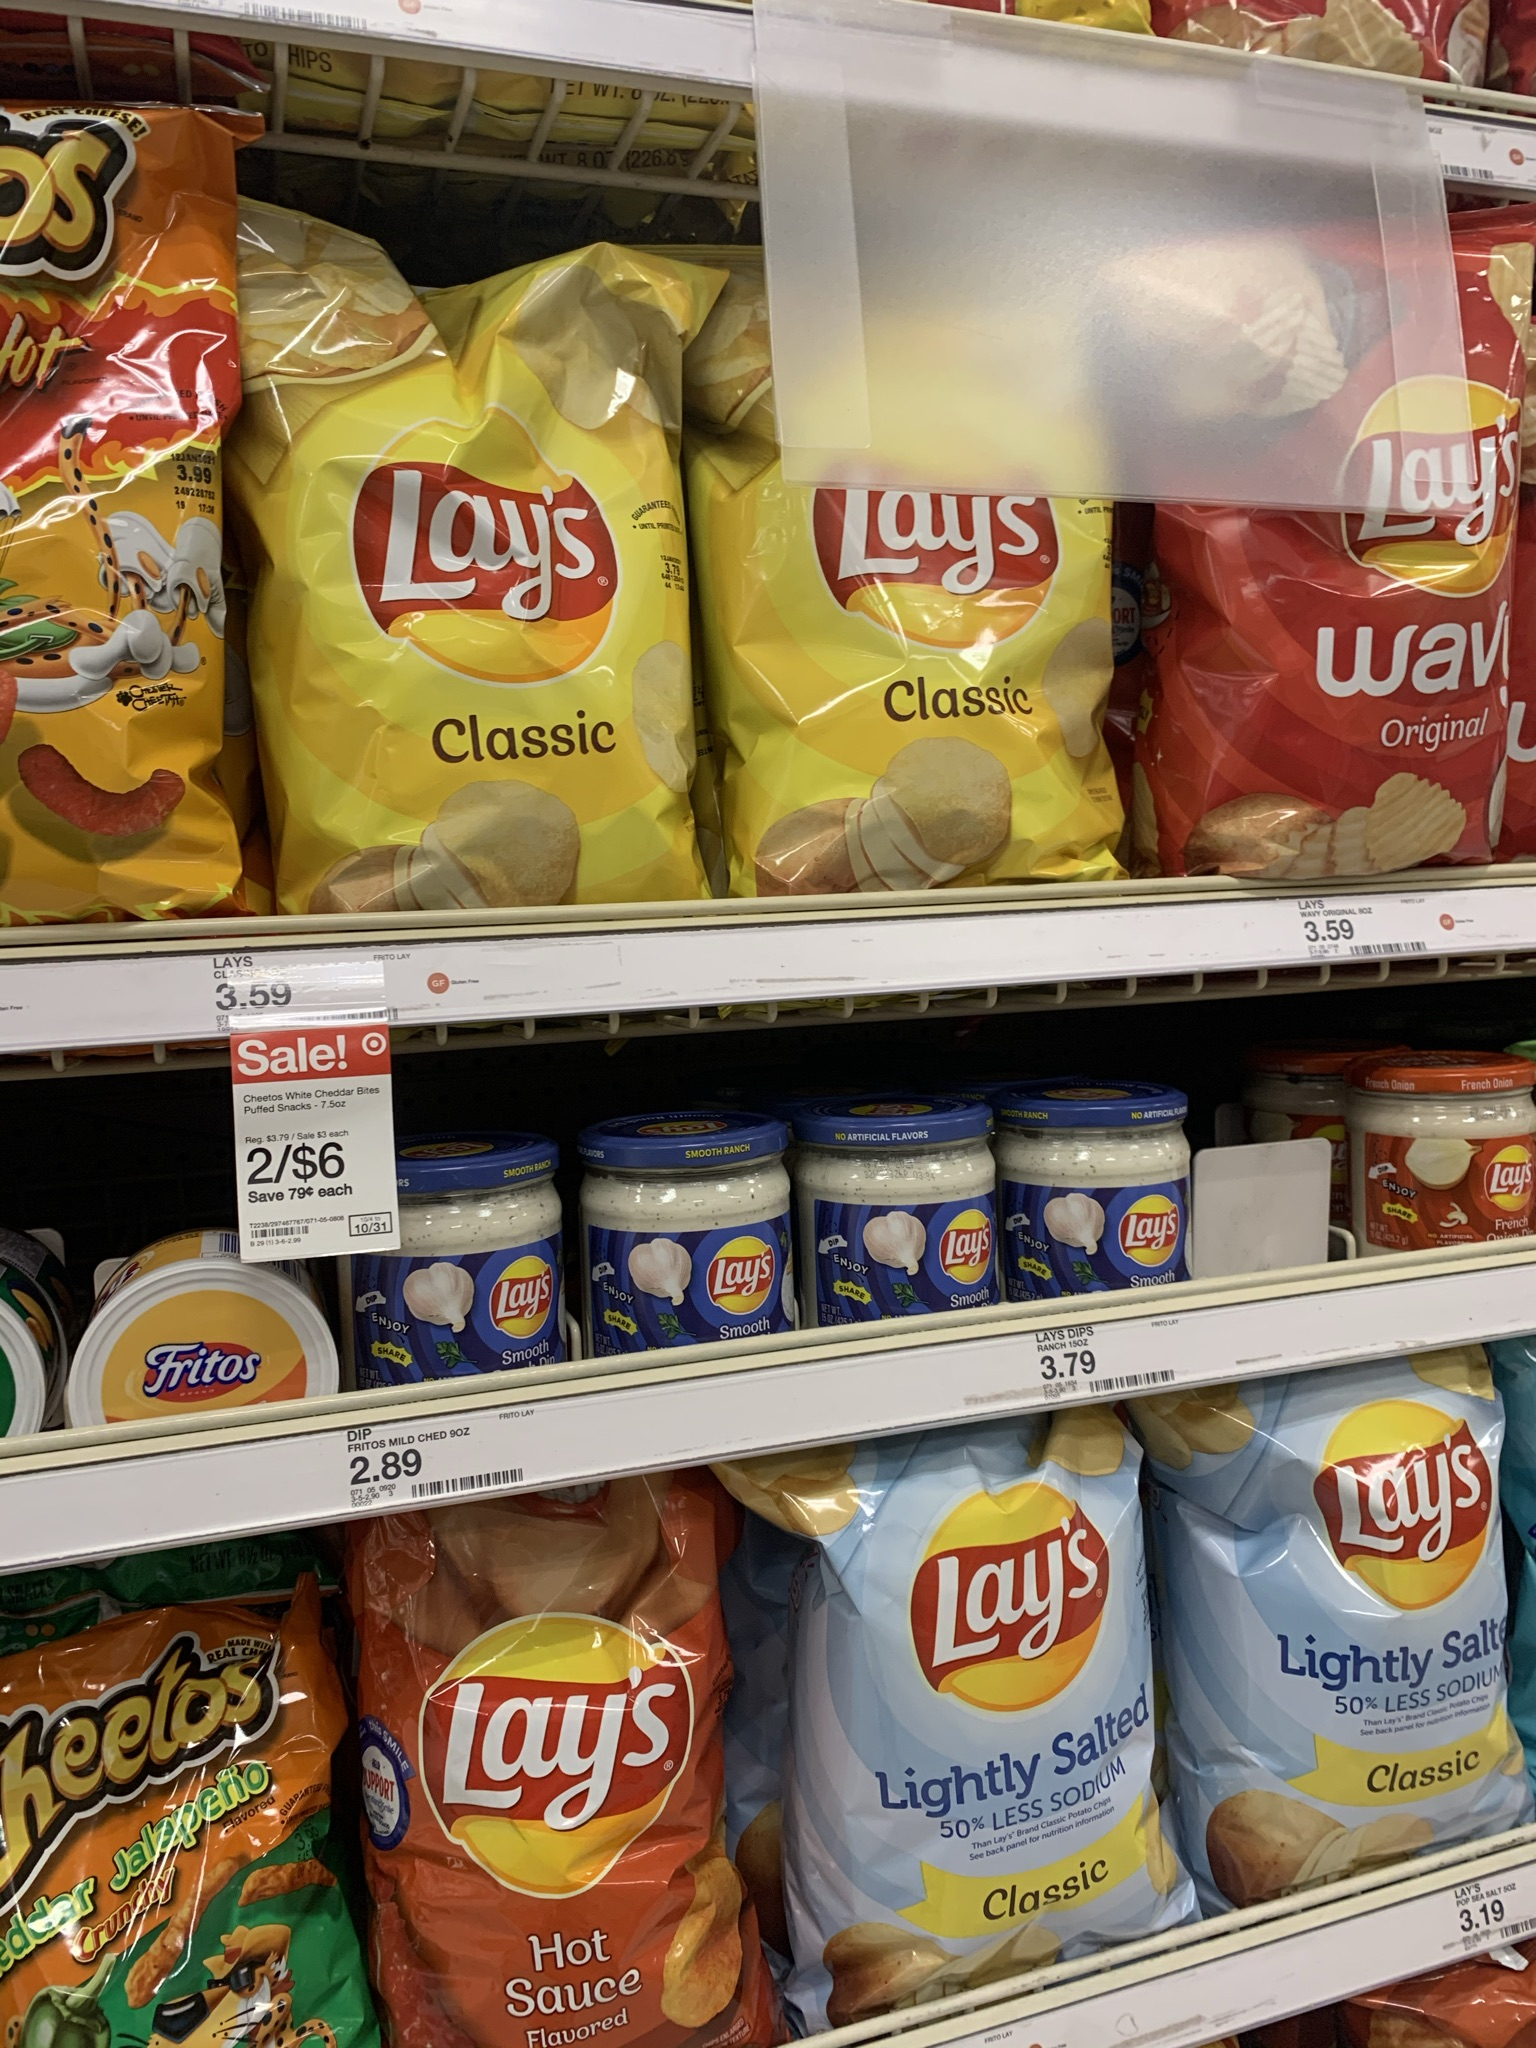cheetos: (15, 1661, 329, 2048)
lays: (307, 276, 699, 834), (742, 290, 1104, 885), (1207, 297, 1536, 866), (399, 1555, 737, 2048), (837, 1480, 1162, 1950), (1217, 1424, 1509, 1837)
